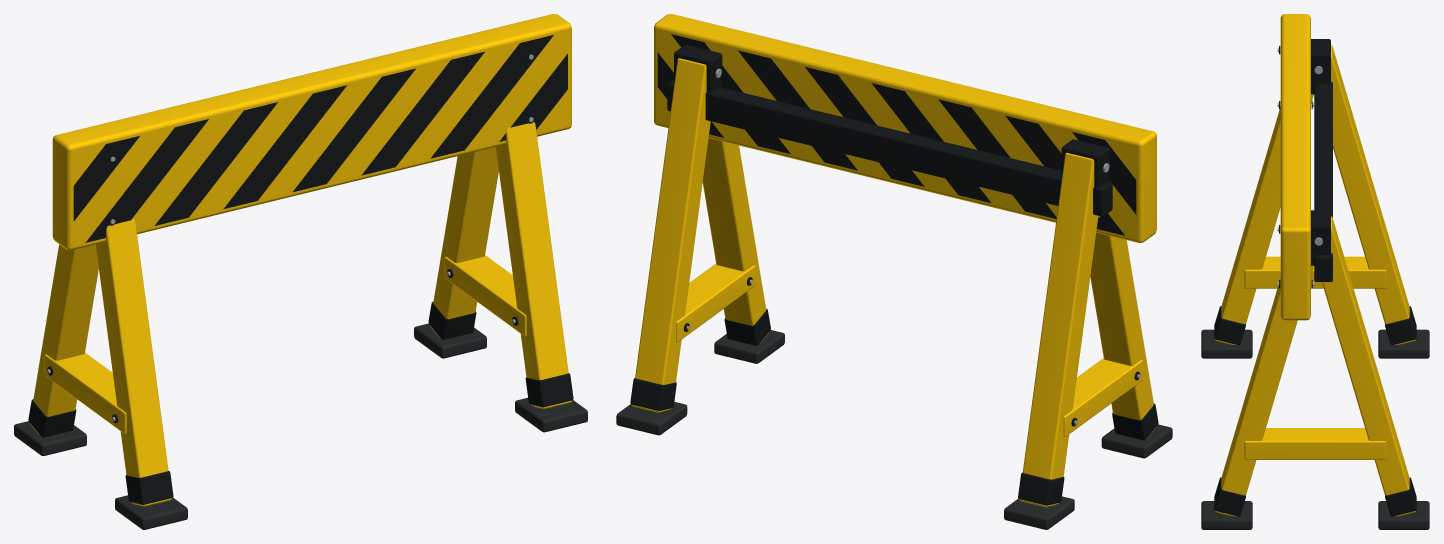
Rendered from Slide-Barrier.glb.
The picture shows the model from 3 angles, left to right: view 1: azimuth 30°, elevation 25°; view 2: azimuth 150°, elevation 25°; view 3: azimuth 270°, elevation 25°; orthographic projection. The views are drawn at different scales.
Visible parts, largest first — view 1: Visual • Hazard_Yellow, Visual • Hazard_Black, Visual • Feet_Rubber; view 2: Visual • Hazard_Yellow, Visual • Hazard_Black, Visual • Feet_Rubber; view 3: Visual • Hazard_Yellow, Visual • Hazard_Black, Visual • Feet_Rubber.
Boxes of the visible parts, x1,y1,x2,y2 form: Visual • Hazard_Yellow: (30, 14, 572, 506); Visual • Hazard_Black: (28, 35, 573, 504); Visual • Feet_Rubber: (14, 323, 587, 529); Visual • Hazard_Yellow: (631, 14, 1156, 507); Visual • Hazard_Black: (630, 34, 1158, 505); Visual • Feet_Rubber: (616, 330, 1172, 529); Visual • Hazard_Yellow: (1215, 14, 1415, 516); Visual • Hazard_Black: (1214, 39, 1416, 516); Visual • Feet_Rubber: (1201, 329, 1429, 529).
Bounding box in the file's own units: 2.2 × 1.49 × 0.98.
